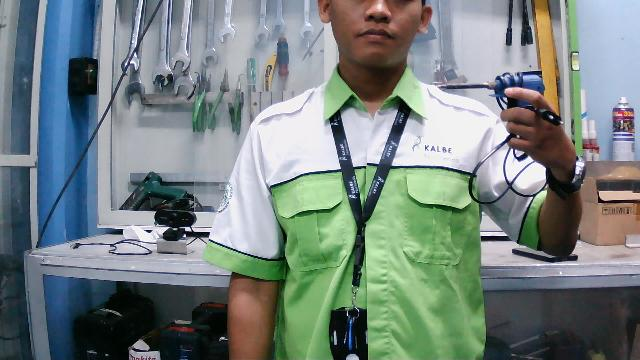solder_electrical: (436, 70, 565, 205)
